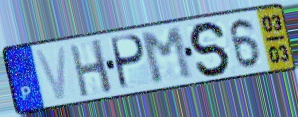6: (228, 16, 263, 70)
H: (67, 37, 116, 99)
M: (138, 25, 196, 88)
P: (110, 33, 148, 92)
S: (188, 20, 233, 78)
V: (33, 43, 69, 103)
